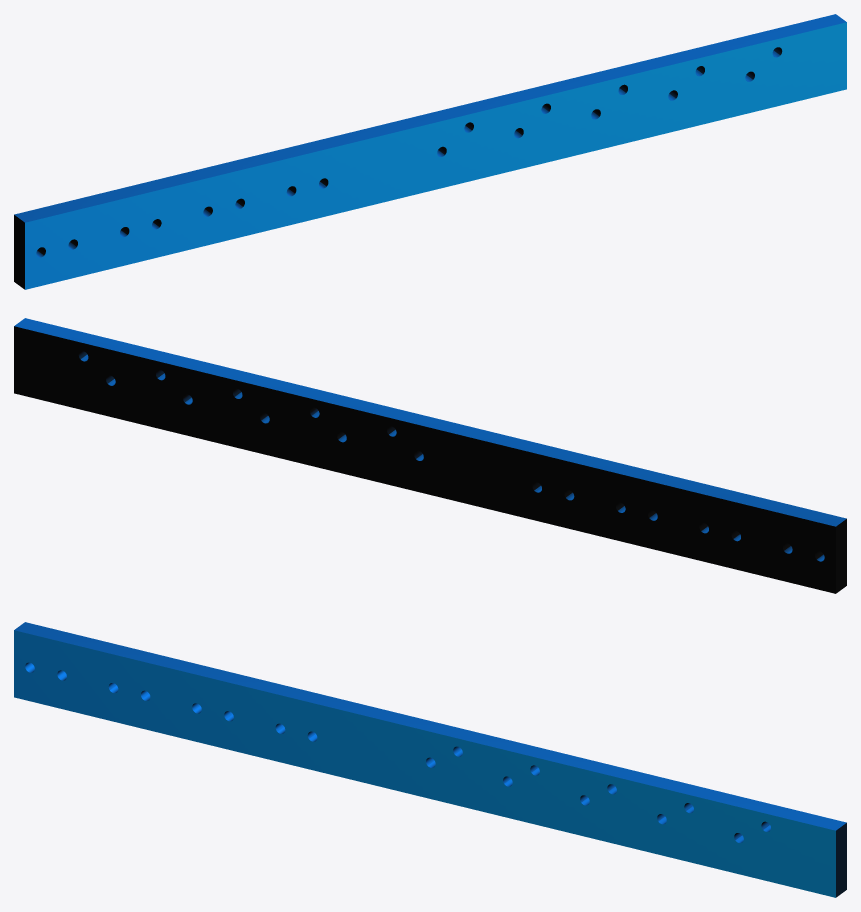
File: Step02.FBX
3 views of the same model, one above another, from view 1: azimuth 30°, elevation 25°; view 2: azimuth 150°, elevation 25°; view 3: azimuth 330°, elevation 25° (orthographic).
Parts seen in each view (by area): view 1: part43; view 2: part43; view 3: part43.
Boxes of the visible parts, box(x1,y1,x2,y2) form: part43: box(14, 14, 846, 289); part43: box(14, 318, 846, 593); part43: box(14, 622, 846, 897).
Size of the model in its own units: 81.28 by 6.35 by 1.91.
1 material, 1 textured.
